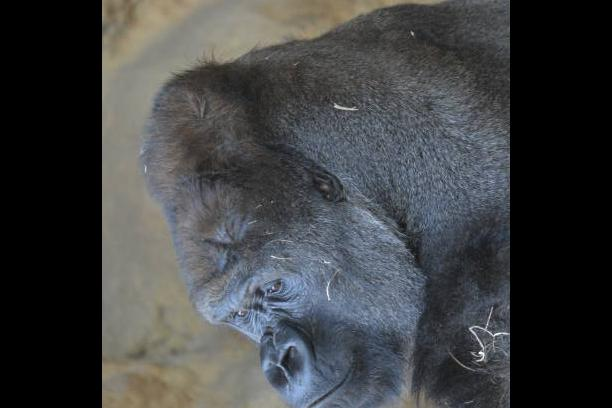gorille_Autres: (127, 0, 510, 408)
